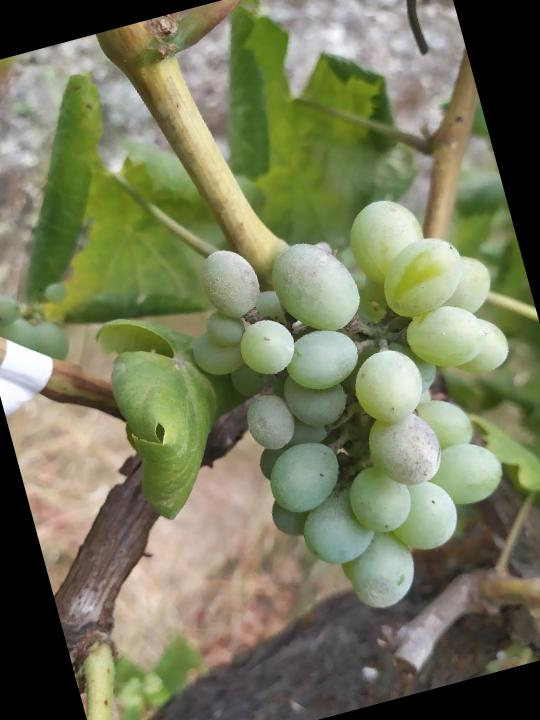grape: (164, 176, 540, 639)
